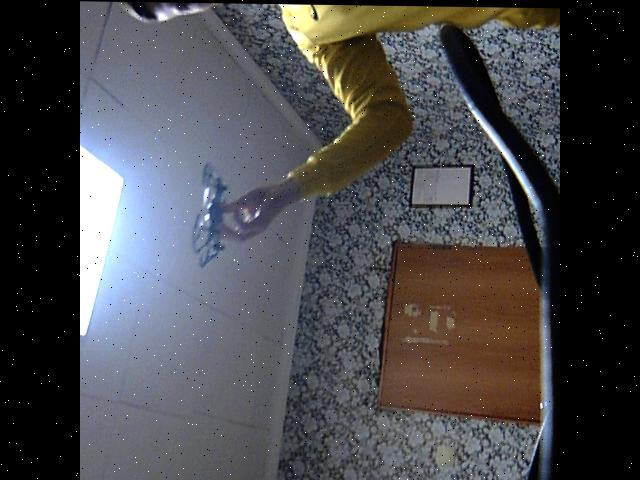drone: (183, 158, 234, 267)
